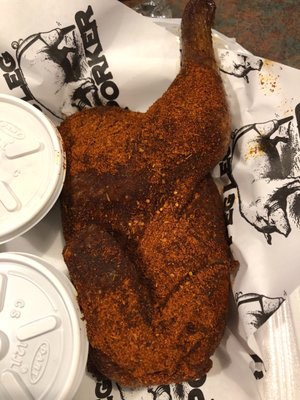sushi: (59, 4, 236, 393)
